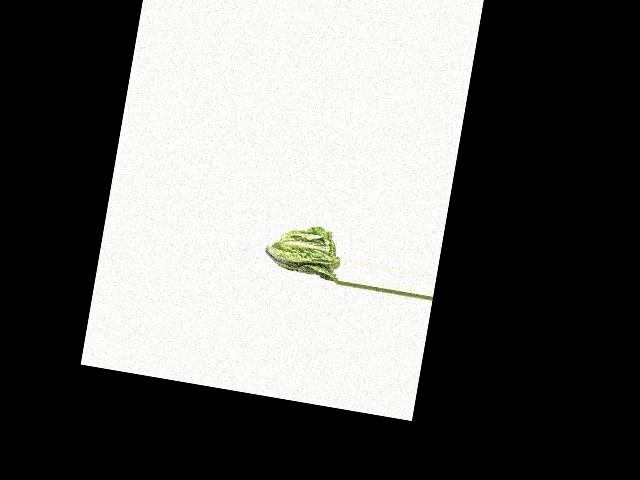lettuce: (263, 215, 346, 282)
